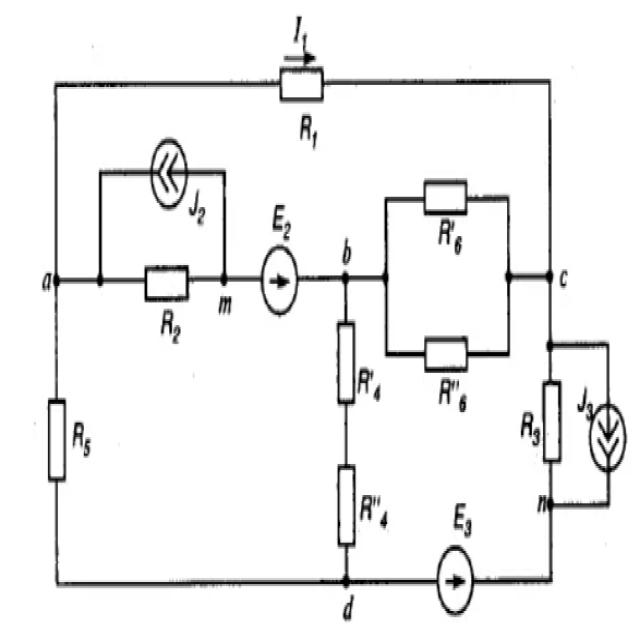net: (325, 72, 556, 95), (52, 72, 280, 90), (476, 568, 559, 592), (465, 341, 516, 365), (379, 338, 426, 363), (94, 160, 144, 182), (464, 184, 514, 206), (191, 159, 230, 183), (52, 490, 61, 593), (382, 189, 427, 205), (604, 335, 614, 403), (343, 397, 351, 474), (605, 476, 614, 512)
net_node: (52, 571, 434, 594), (542, 72, 558, 376), (502, 183, 516, 368), (53, 76, 61, 392), (380, 194, 394, 366), (302, 264, 394, 288), (49, 270, 146, 292), (542, 332, 614, 361), (546, 492, 616, 520), (502, 262, 560, 291), (218, 163, 230, 285), (96, 164, 107, 294), (546, 471, 558, 585), (191, 272, 260, 289), (340, 264, 353, 328), (341, 555, 352, 594)
res: (336, 456, 358, 552), (335, 318, 358, 409), (422, 177, 470, 218), (541, 378, 563, 467), (422, 336, 472, 375), (278, 64, 324, 105), (47, 394, 67, 486), (143, 266, 190, 304)
source: (146, 130, 190, 214), (258, 241, 301, 318), (587, 398, 628, 476), (436, 542, 476, 619)
